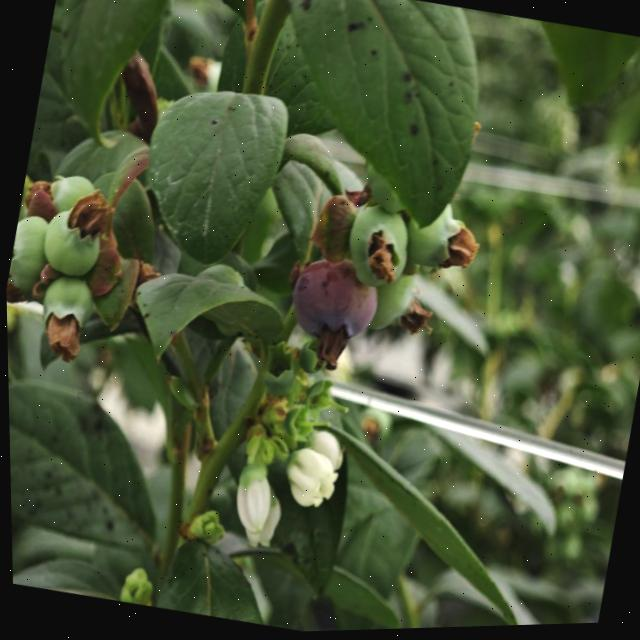Semi-RipeBlueBerry: (282, 251, 384, 353)
UnripeBlueBerry: (341, 199, 417, 293)
